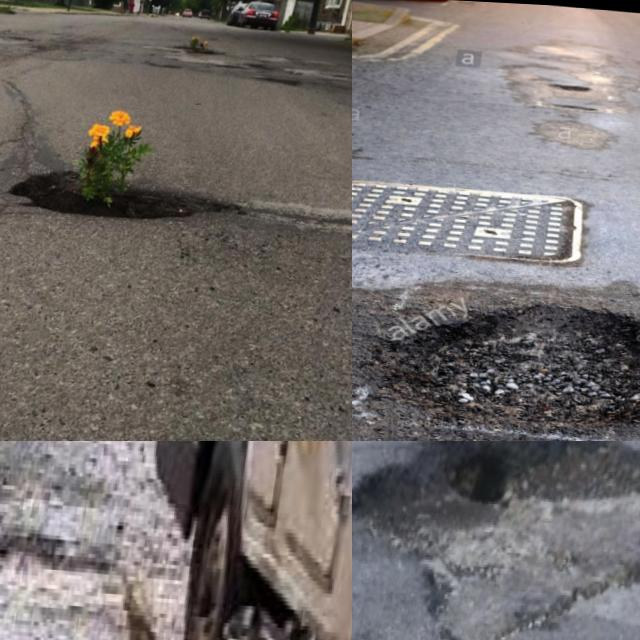Potholes: (352, 441, 640, 640), (352, 249, 640, 441), (0, 124, 253, 283), (0, 483, 151, 636), (132, 29, 250, 89), (246, 45, 324, 117)
